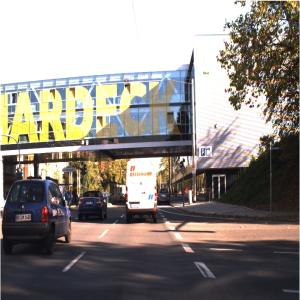keep right: (67, 192, 73, 202)
